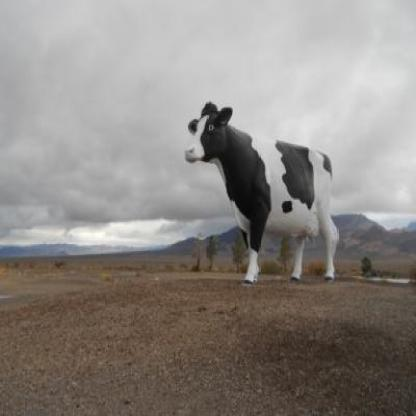lower: (189, 160, 192, 162)
mouth: (184, 142, 209, 165)
upper: (192, 148, 199, 153)
